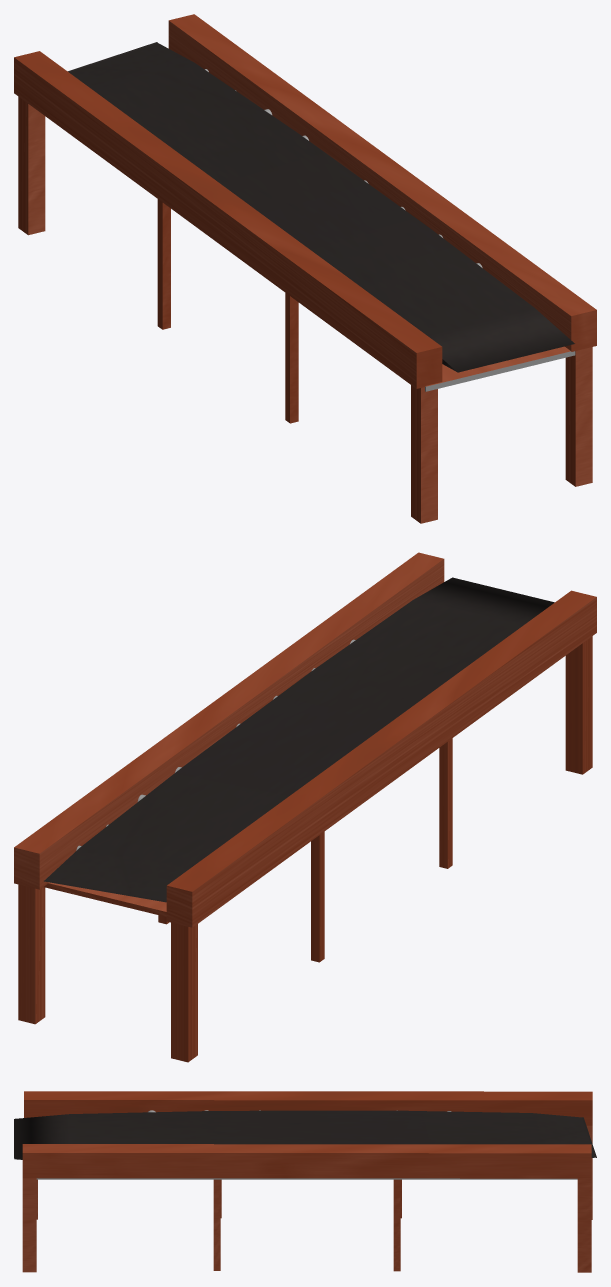
The model's file is conveyor_belt.FBX.
The picture shows the model from 3 angles, top to bottom: view 1: azimuth 30°, elevation 25°; view 2: azimuth 150°, elevation 25°; view 3: azimuth 270°, elevation 25°; orthographic projection. The views are drawn at different scales.
Visible parts, largest first — view 1: Plane001; view 2: Plane001; view 3: Plane001.
Part boxes in pixels (x1,y1,x2,y2): Plane001: (14, 14, 596, 523); Plane001: (14, 552, 596, 1062); Plane001: (14, 1091, 596, 1272).
Bounding box in the file's own units: 21.04 × 19.12 × 83.5.
1 material, 1 textured.
